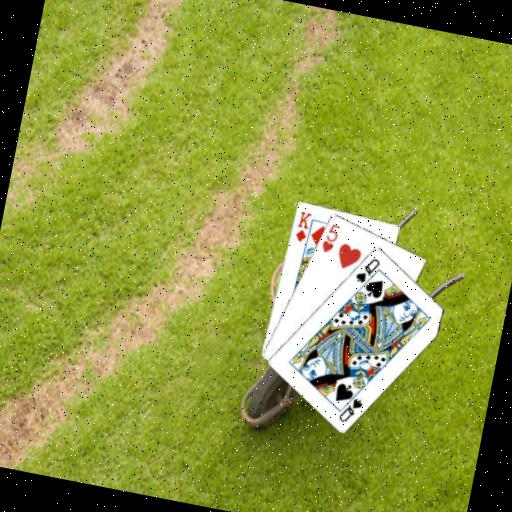5H: (318, 219, 343, 256)
KD: (291, 207, 314, 245)
QS: (352, 252, 383, 287), (335, 392, 366, 427)
